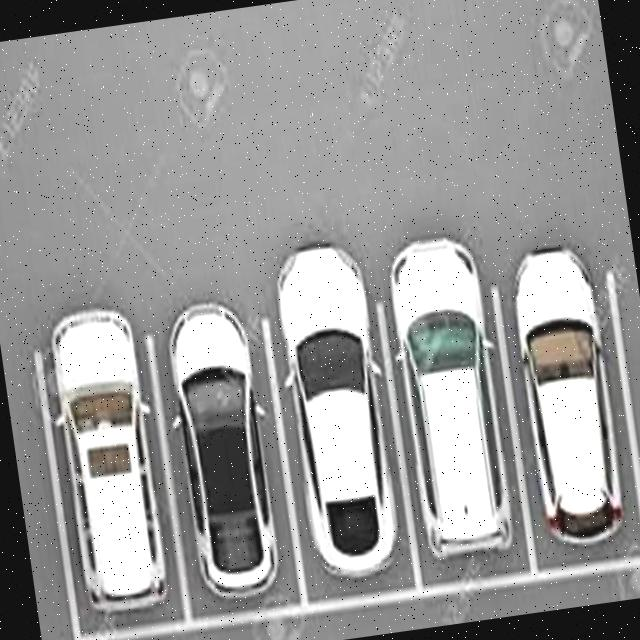occupied: (260, 236, 415, 591), (382, 227, 526, 570), (40, 304, 180, 628), (500, 234, 639, 558), (158, 291, 296, 615)
